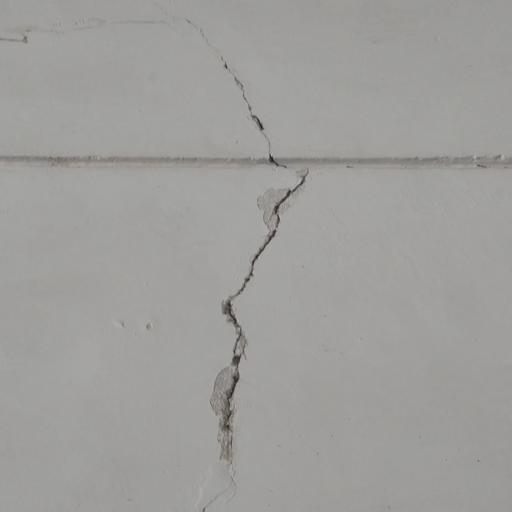major_crack: (151, 0, 319, 491)
